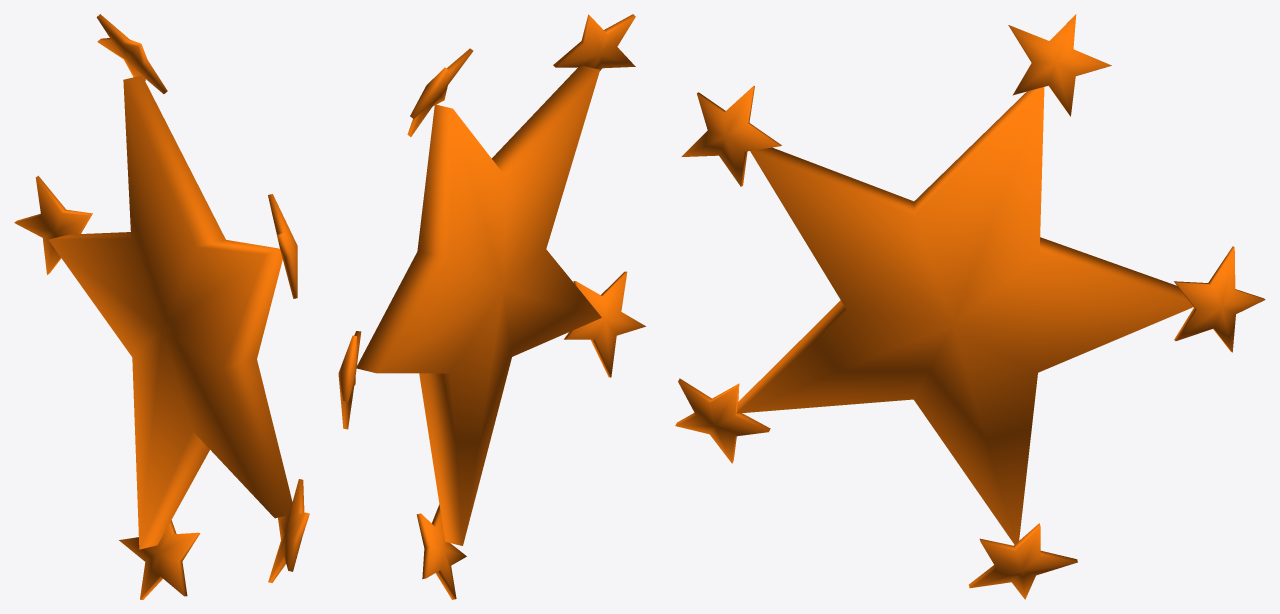
File: MOD_Star.FBX
3 views of the same model, side by side, from view 1: azimuth 30°, elevation 25°; view 2: azimuth 150°, elevation 25°; view 3: azimuth 270°, elevation 25° (orthographic). The views are drawn at different scales.
Parts seen in each view (by area): view 1: MOD_Star; view 2: MOD_Star; view 3: MOD_Star.
Part boxes in pixels (left/top/right/bottom): MOD_Star: left=14, top=14, right=309, bottom=599; MOD_Star: left=338, top=14, right=645, bottom=599; MOD_Star: left=675, top=14, right=1265, bottom=599.
Size of the model in its own units: 13.73 by 90.71 by 84.12.
